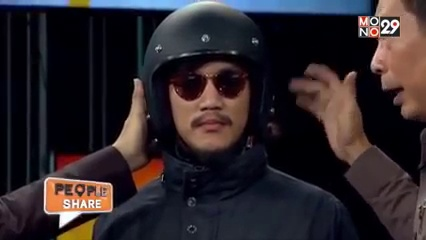helmet: (136, 1, 280, 152)
